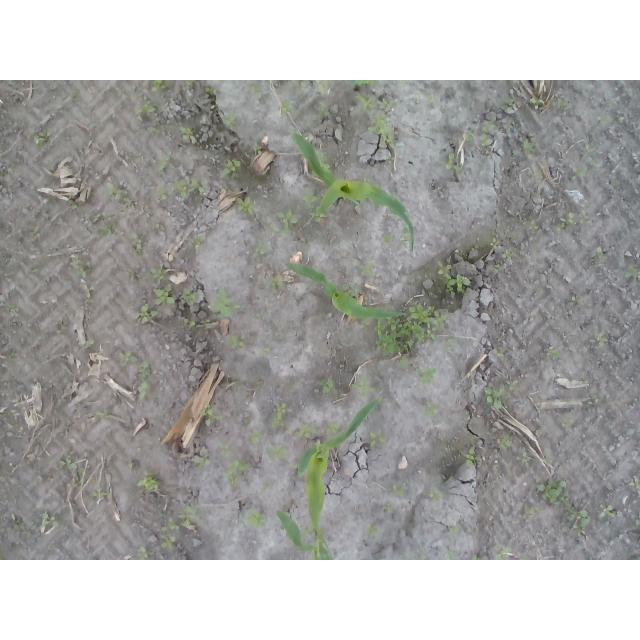Maize: (290, 131, 419, 254), (296, 397, 380, 540), (287, 261, 406, 320), (275, 504, 333, 561)
Weeds: (376, 302, 447, 354), (129, 266, 176, 326), (356, 93, 401, 144), (160, 503, 205, 553), (436, 257, 472, 295), (223, 442, 251, 487), (209, 287, 242, 318), (532, 478, 568, 506), (482, 384, 518, 409), (555, 210, 592, 234), (286, 80, 338, 97), (567, 504, 592, 537), (270, 208, 298, 237), (294, 421, 338, 439), (175, 176, 210, 197), (136, 359, 153, 401), (111, 184, 137, 209), (134, 95, 158, 122), (69, 256, 96, 280), (135, 471, 161, 493), (30, 125, 51, 151), (93, 211, 113, 238), (270, 402, 291, 427), (265, 442, 290, 463), (237, 196, 258, 220), (201, 407, 224, 428), (480, 119, 497, 147), (444, 151, 465, 173), (246, 507, 266, 530), (350, 375, 370, 398), (584, 143, 602, 168), (416, 367, 441, 385), (222, 157, 242, 179), (159, 151, 178, 173), (303, 184, 319, 209), (39, 510, 61, 528), (246, 429, 266, 447), (319, 377, 337, 397), (390, 480, 410, 497), (494, 431, 512, 449), (369, 430, 387, 448), (519, 135, 537, 153), (495, 544, 514, 561), (569, 166, 588, 183), (524, 95, 545, 110), (223, 334, 245, 348), (151, 80, 169, 97), (254, 238, 271, 256), (179, 287, 199, 302), (280, 100, 297, 117), (624, 263, 640, 281), (132, 232, 144, 256), (359, 263, 378, 278), (463, 446, 477, 466), (430, 482, 443, 503), (424, 401, 441, 417), (559, 99, 577, 114), (191, 454, 210, 468), (599, 503, 615, 519), (224, 113, 240, 129), (544, 347, 561, 362), (501, 248, 516, 265), (503, 96, 517, 114), (245, 82, 266, 94), (487, 232, 502, 248), (119, 350, 139, 362), (92, 487, 112, 499), (367, 521, 381, 538), (63, 454, 77, 471), (523, 217, 539, 231), (312, 208, 326, 224), (189, 233, 205, 247), (516, 448, 529, 465), (269, 273, 282, 290), (590, 335, 610, 346), (521, 507, 536, 521), (447, 335, 458, 354), (562, 418, 575, 434), (342, 284, 358, 297), (136, 544, 149, 560), (319, 104, 330, 121), (462, 131, 475, 145), (351, 81, 377, 88), (82, 287, 94, 302), (627, 475, 640, 488), (398, 356, 411, 369), (176, 126, 192, 136), (7, 352, 18, 366), (65, 478, 80, 488), (449, 527, 462, 538), (31, 226, 42, 239), (80, 339, 97, 347), (445, 549, 457, 560), (159, 188, 170, 200), (185, 319, 199, 328), (6, 163, 17, 174), (205, 88, 218, 97), (568, 296, 581, 305), (633, 512, 640, 528), (383, 234, 397, 242), (383, 503, 394, 513), (417, 550, 428, 560), (6, 303, 17, 313), (12, 521, 24, 530), (599, 115, 608, 126), (493, 263, 503, 272), (126, 463, 135, 473), (596, 247, 604, 258), (152, 127, 161, 136), (425, 96, 436, 103), (470, 553, 480, 560), (187, 80, 194, 89), (496, 352, 504, 357)
